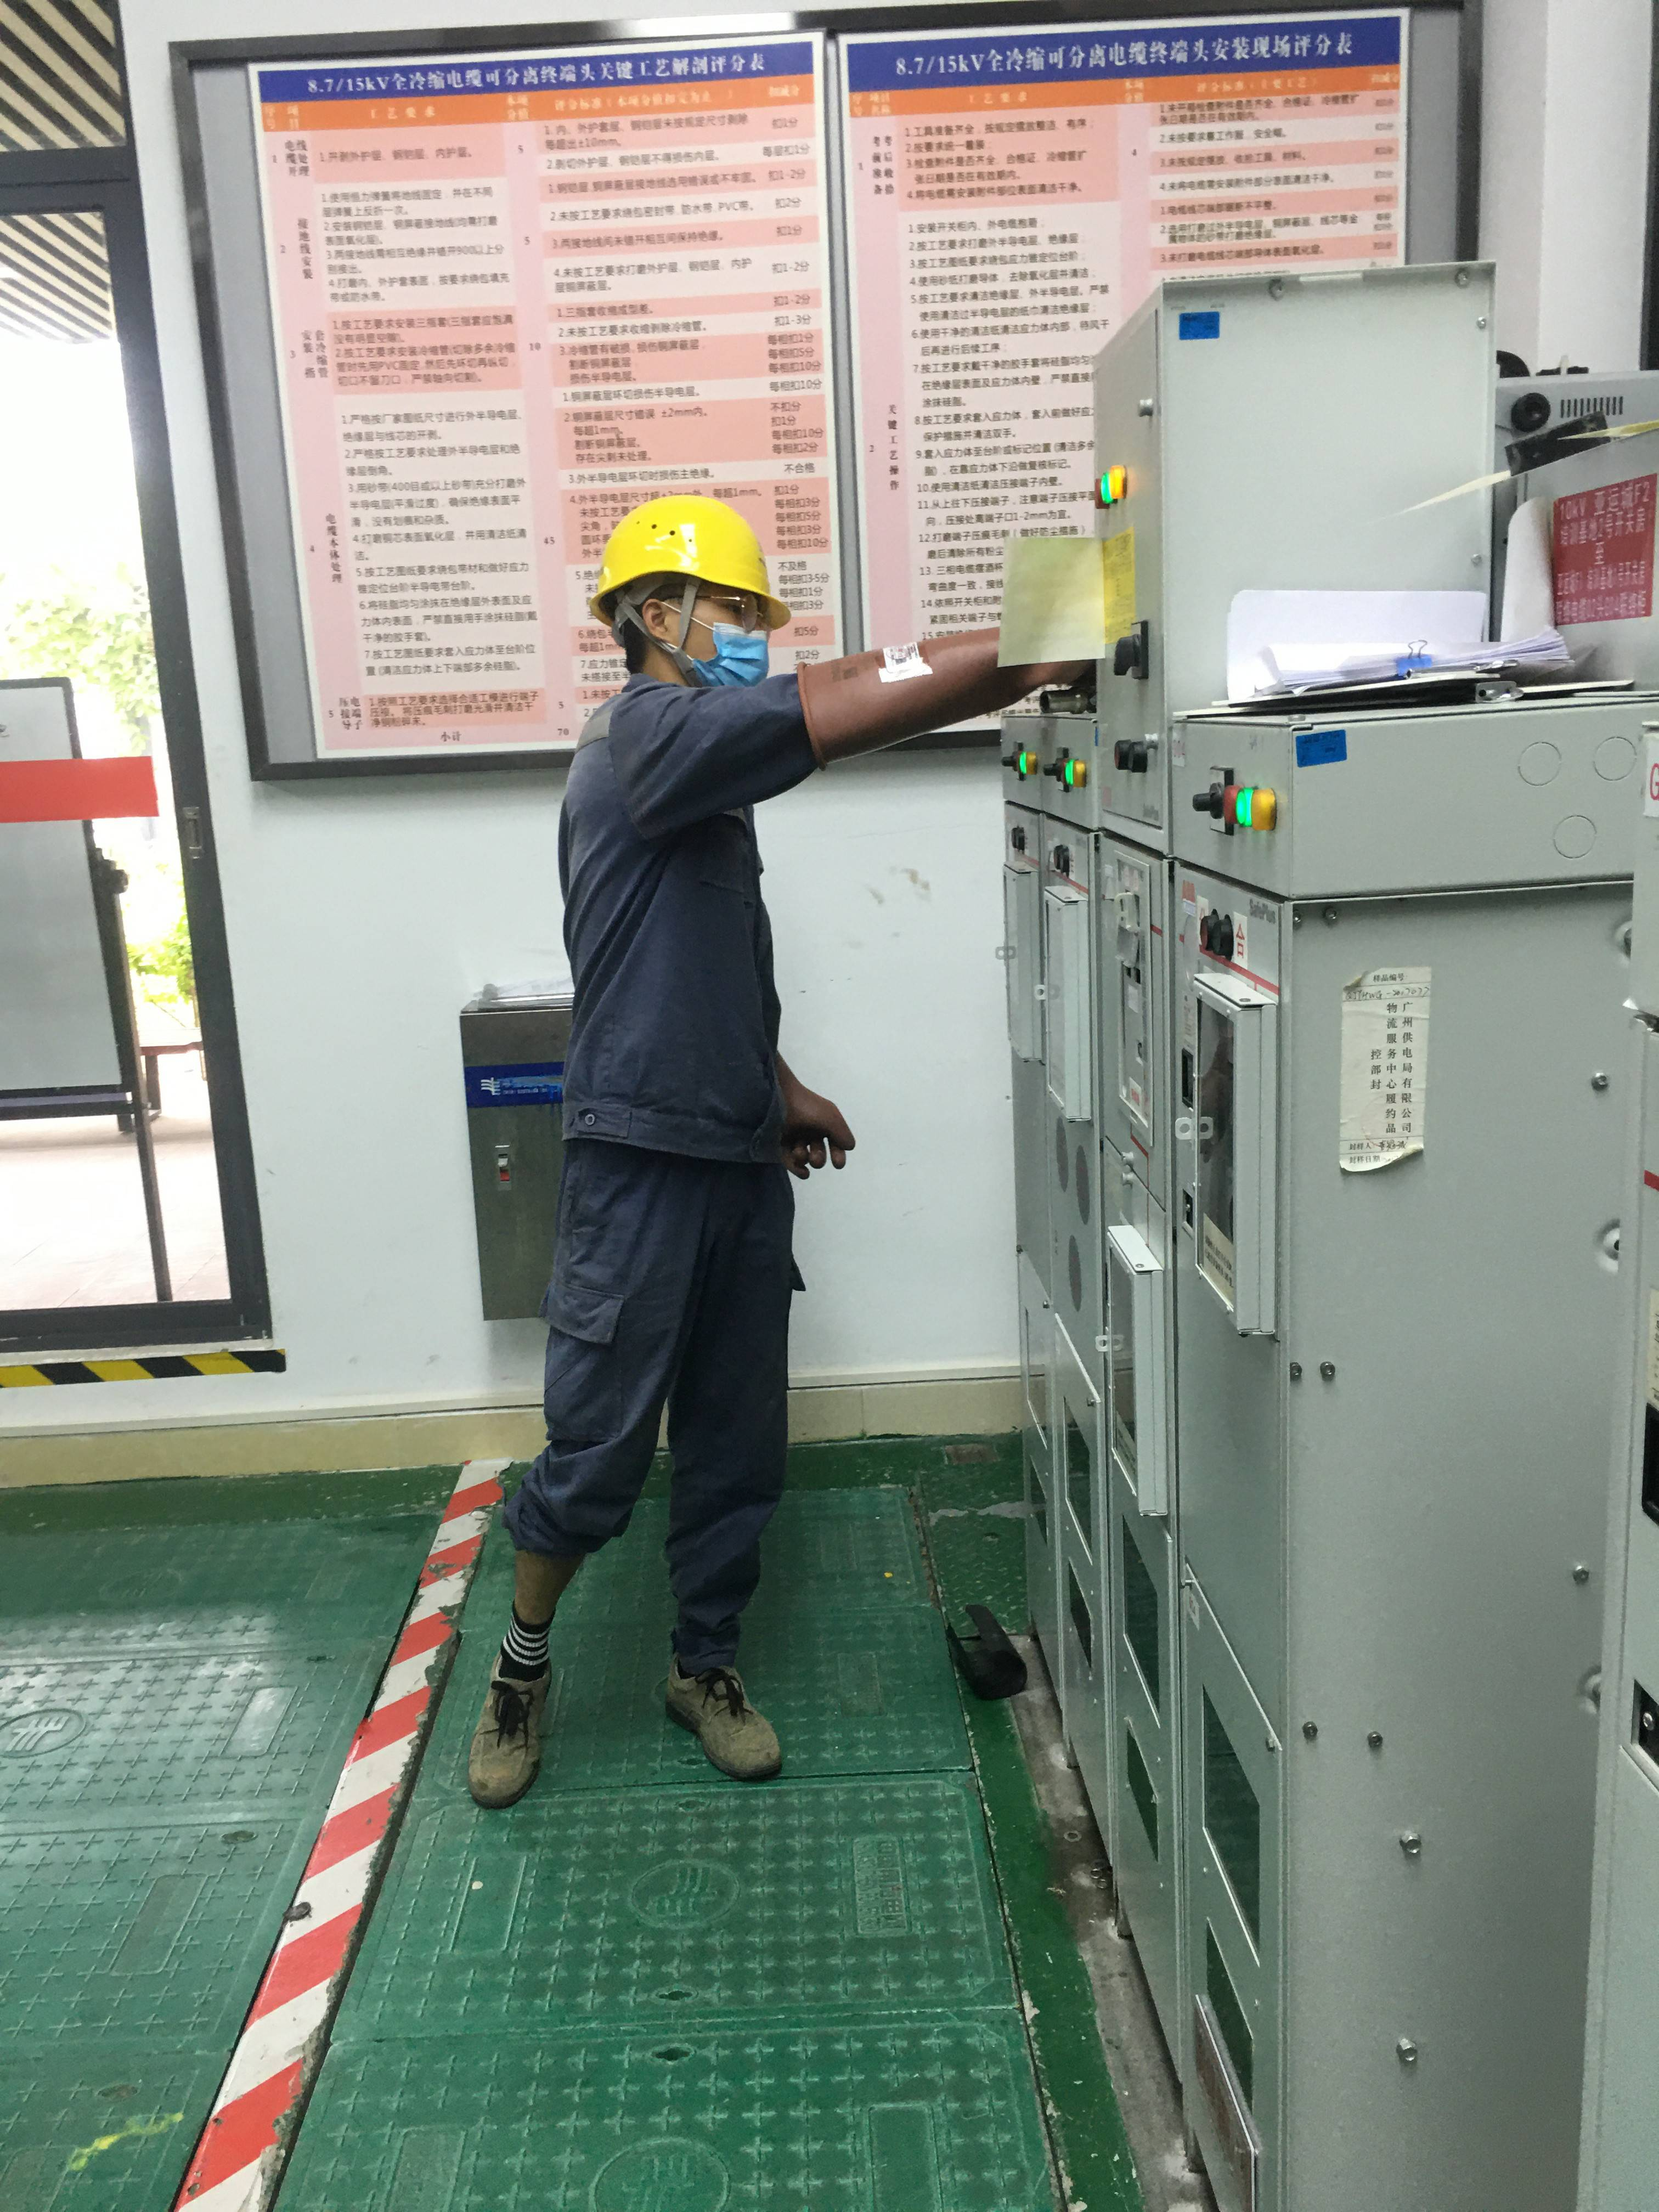downsuit: (504, 1177, 810, 1665)
upsuit: (554, 672, 823, 1134)
wrongbottom: (491, 1467, 598, 1665)
